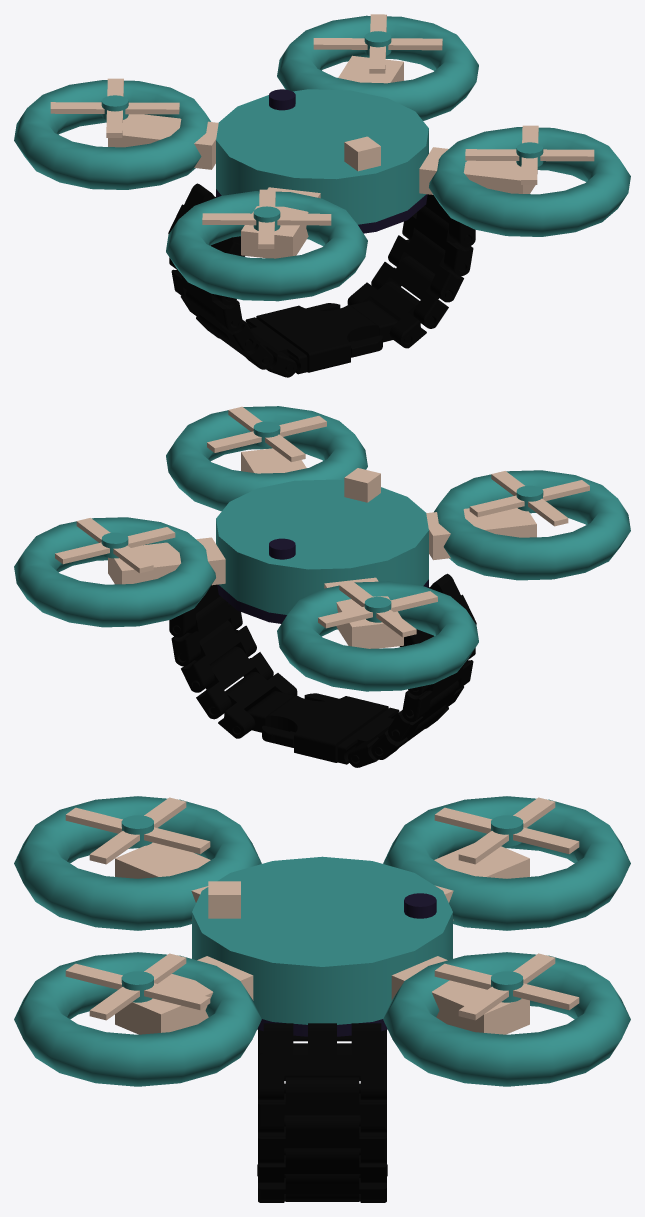
The model's file is dronewatch_extendidos.gltf.
The picture shows the model from 3 angles, top to bottom: view 1: azimuth 30°, elevation 25°; view 2: azimuth 150°, elevation 25°; view 3: azimuth 270°, elevation 25°; orthographic projection. The views are drawn at different scales.
Size of the model in its own units: 9.46 by 4.72 by 9.46.
